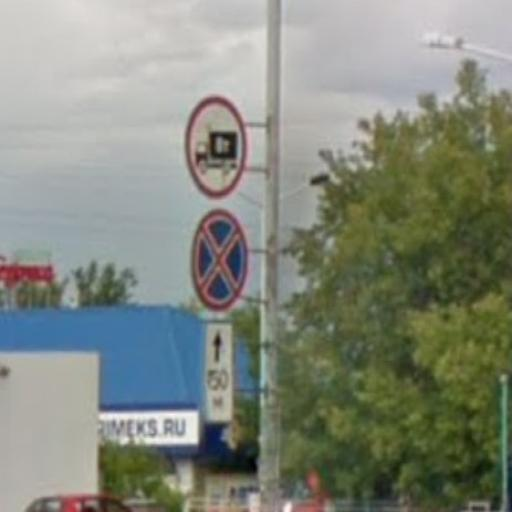traffic_sign: (183, 93, 252, 202), (190, 206, 251, 316)
